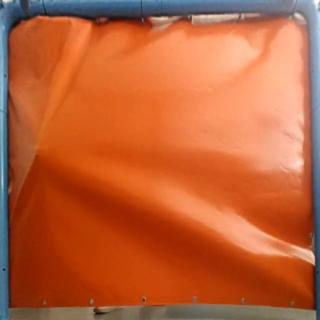Hit-hRxx: (34, 150, 43, 162)
